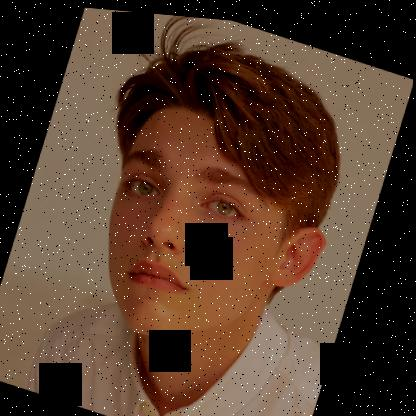Male: (80, 85, 356, 375)
